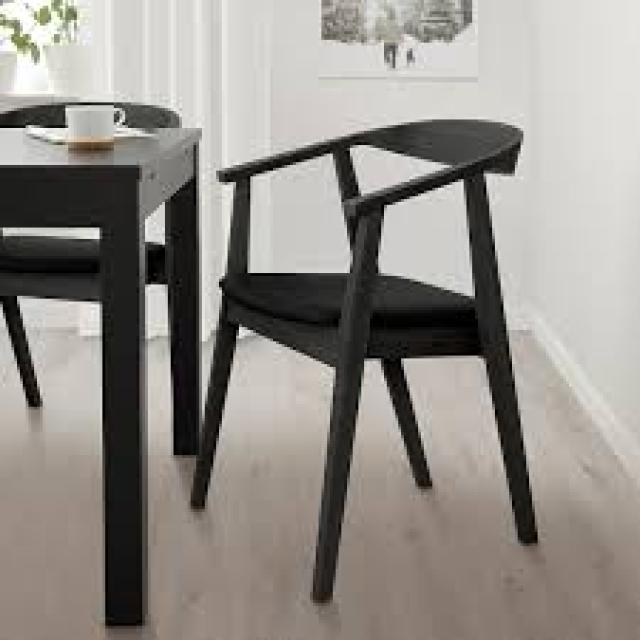chair: (160, 96, 620, 614)
